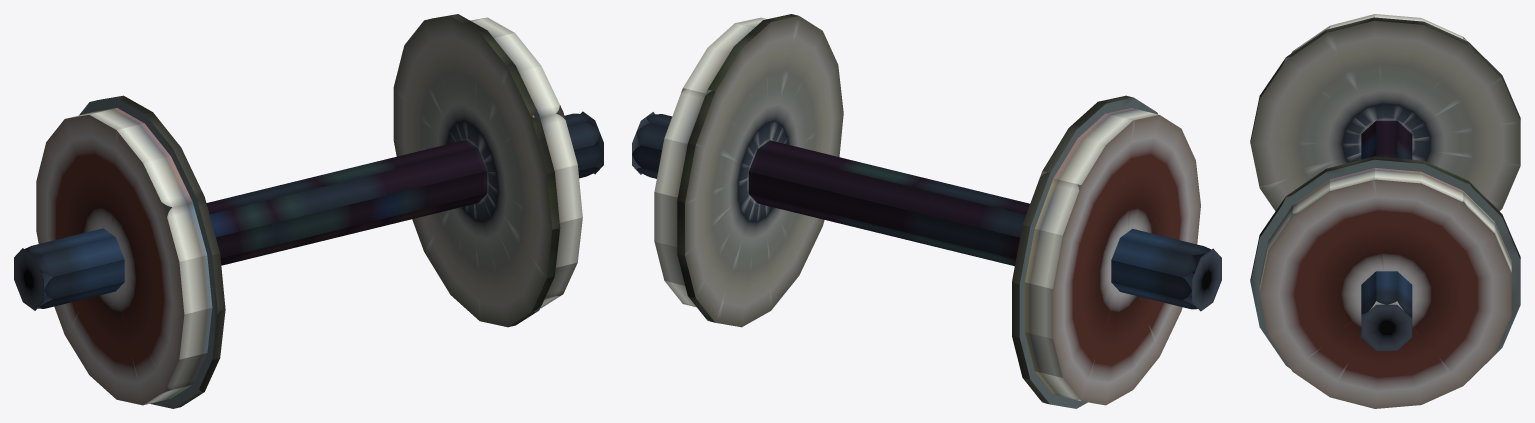
The model's file is dfh21_wheel_standard.obj.
3 views of the same model, side by side, from view 1: azimuth 30°, elevation 25°; view 2: azimuth 150°, elevation 25°; view 3: azimuth 270°, elevation 25° (orthographic). The views are drawn at different scales.
Visible parts, largest first — view 1: cylinder_selection_selection_selection_selection_selection_selec, cylinder_selection_selection_selection_selection_selection; view 2: cylinder_selection_selection_selection_selection_selection_selec, cylinder_selection_selection_selection_selection_selection; view 3: cylinder_selection_selection_selection_selection_selection_selec, cylinder_selection_selection_selection_selection_selection.
Part boxes in pixels (x1=…): cylinder_selection_selection_selection_selection_selection_selec: x1=36, y1=14, x2=582, y2=408; cylinder_selection_selection_selection_selection_selection: x1=14, y1=111, x2=603, y2=310; cylinder_selection_selection_selection_selection_selection_selec: x1=654, y1=14, x2=1200, y2=408; cylinder_selection_selection_selection_selection_selection: x1=632, y1=112, x2=1221, y2=311; cylinder_selection_selection_selection_selection_selection_selec: x1=1250, y1=14, x2=1520, y2=408; cylinder_selection_selection_selection_selection_selection: x1=1361, y1=120, x2=1412, y2=350.
Size of the model in its own units: 2.31 by 1.14 by 1.13.
